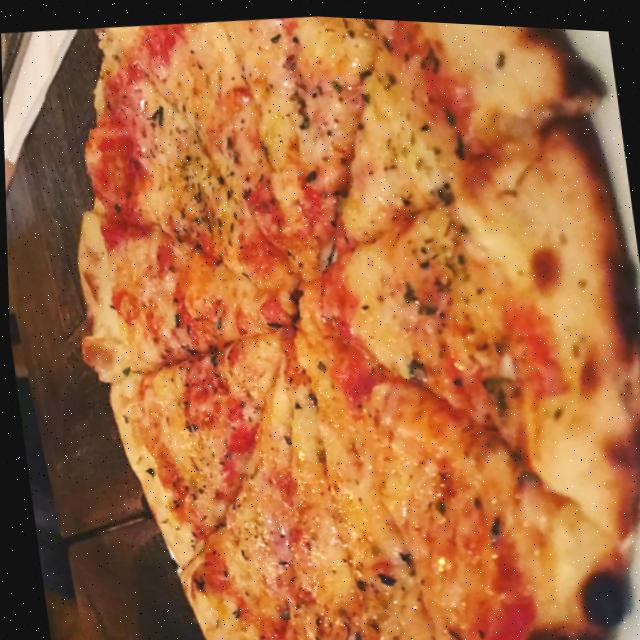pizza: (36, 1, 640, 640)
